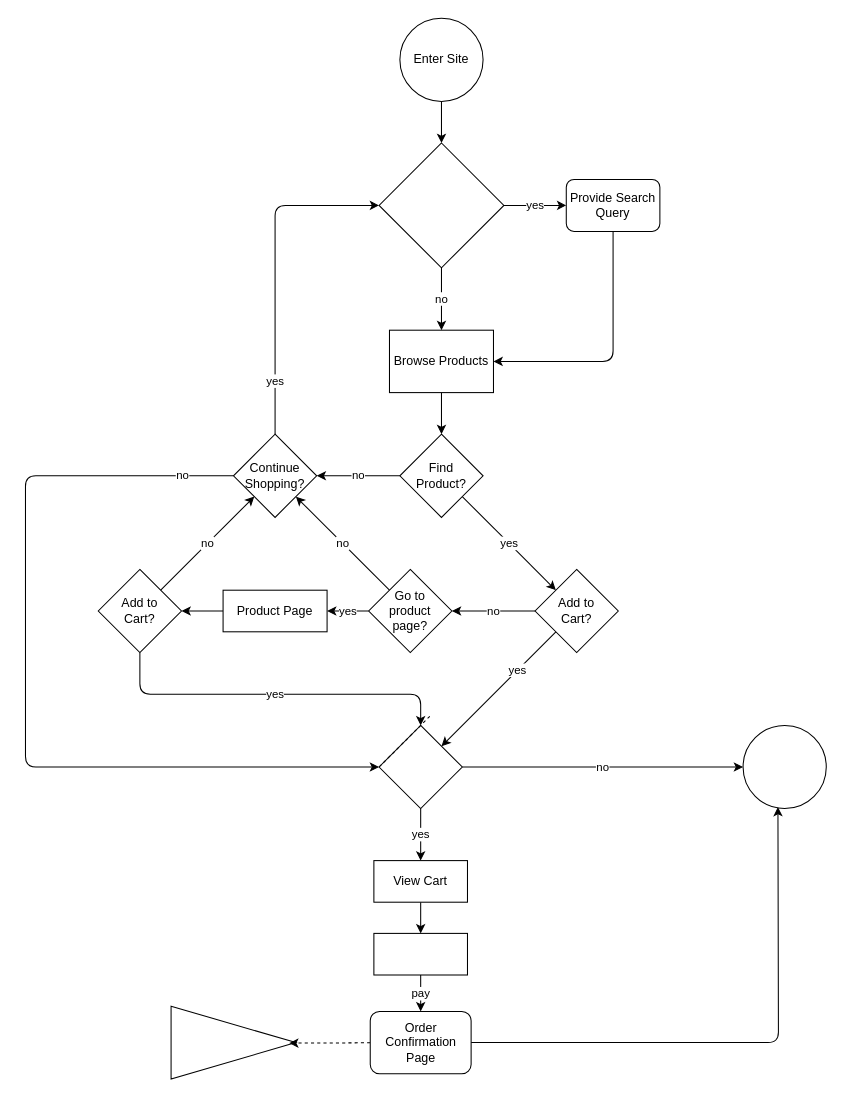
The diagram is 844 pixels wide and 1097 high, and some of its shapes have lost their labels. Each missing label, with the centre of its shape:
"Checkout?" goes at point 420,766.
"Email Confirmation" goes at point 233,1042.
"Exit Site" goes at point 784,766.
"Search for a Product?" goes at point 441,205.
"View Payment" goes at point 420,953.
